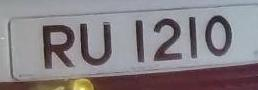0: (200, 9, 237, 61)
1: (180, 11, 206, 64), (128, 14, 151, 66)
2: (149, 12, 187, 67)
R: (37, 19, 80, 74)
U: (75, 17, 116, 72)
